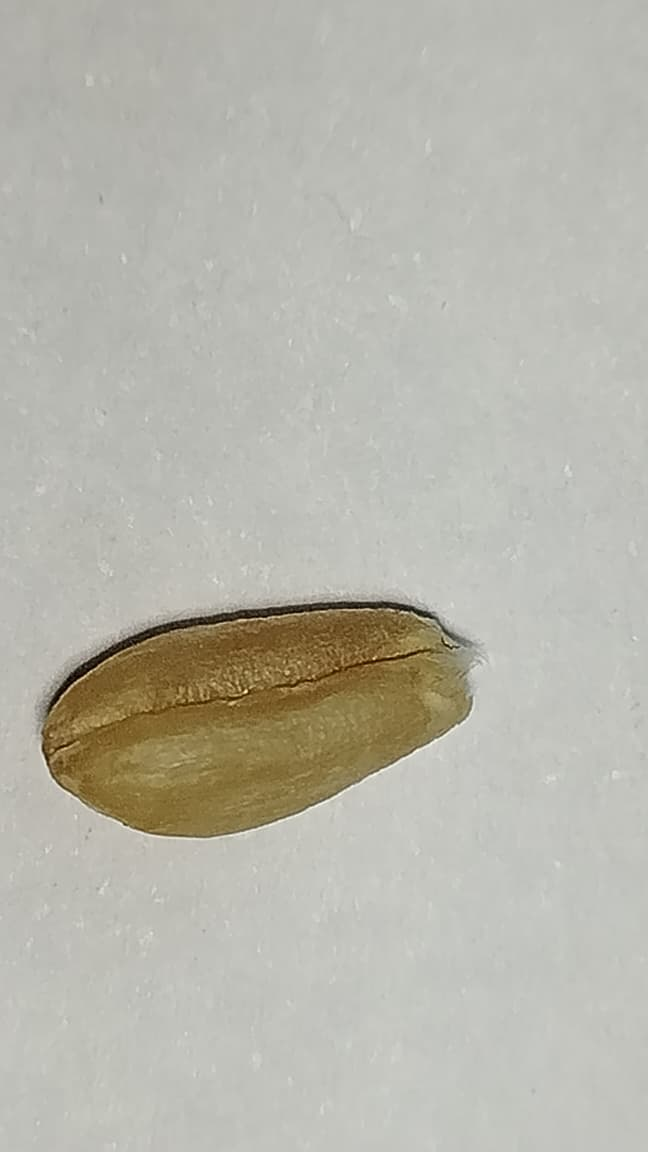healthy: (43, 609, 468, 836)
